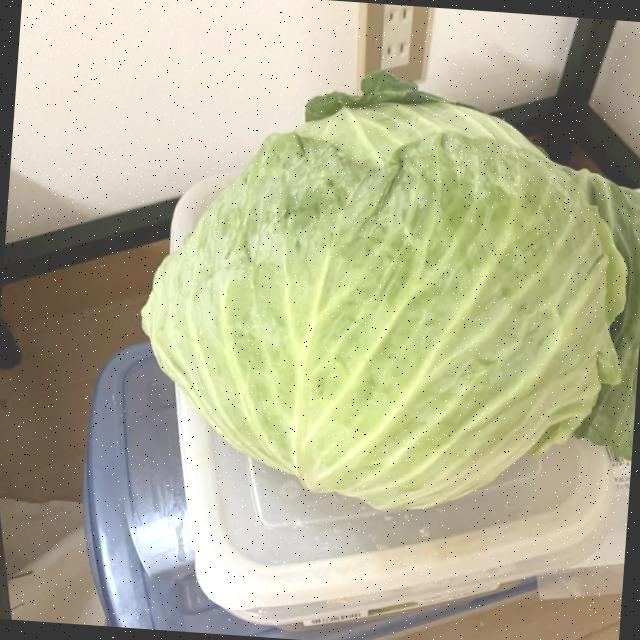cabbage: (123, 51, 640, 535)
